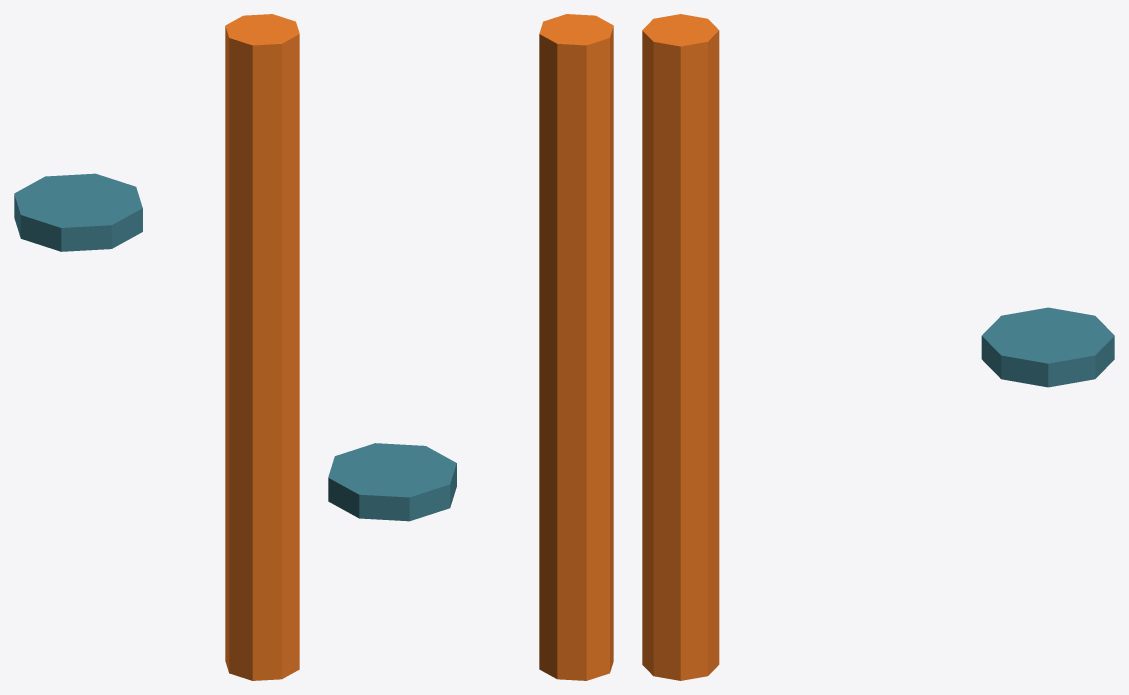
File: checkpoint_beacon.glb
The picture shows the model from 3 angles, left to right: view 1: azimuth 30°, elevation 25°; view 2: azimuth 150°, elevation 25°; view 3: azimuth 270°, elevation 25°; orthographic projection.
Parts seen in each view (by area): view 1: beacon.001, light; view 2: beacon.001, light; view 3: beacon.001, light.
Part boxes in pixels (<box>): beacon.001: <box>225,14,299,680</box>; light: <box>14,173,142,251</box>; beacon.001: <box>539,14,613,680</box>; light: <box>328,443,456,521</box>; beacon.001: <box>642,14,719,680</box>; light: <box>981,307,1114,387</box>.
Bounding box in the file's own units: 0.76 × 4 × 2.7.
